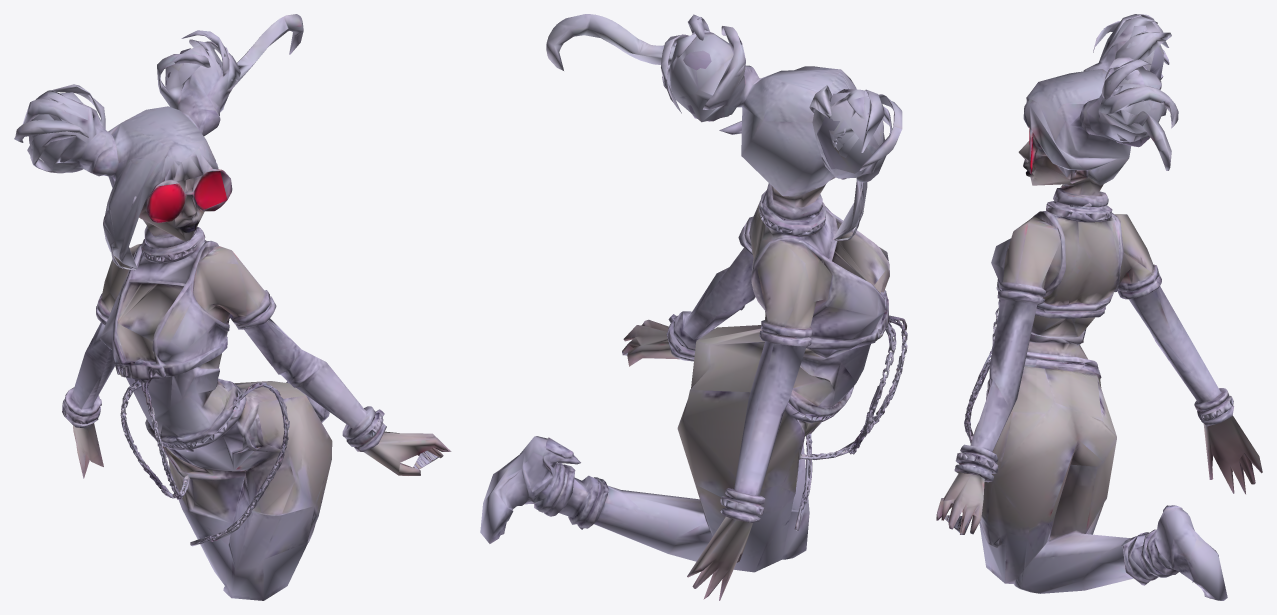
File: girl-14.glb
3 renders of one model, left to right at view 1: azimuth 30°, elevation 25°; view 2: azimuth 150°, elevation 25°; view 3: azimuth 270°, elevation 25°, orthographic. The views are drawn at different scales.
Parts seen in each view (by area): view 1: node_0; view 2: node_0; view 3: node_0.
Boxes of the visible parts, x1,y1,x2,y2 form: node_0: [14, 14, 451, 600]; node_0: [480, 14, 907, 600]; node_0: [936, 14, 1262, 600].
Size of the model in its own units: 0.7312 by 1.05 by 0.6072.
Materials: 1 (1 with a texture image).
